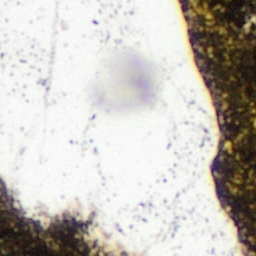cement_matrix: (182, 0, 255, 255), (0, 186, 106, 255)
gravel_crushed_stones: (0, 0, 248, 255)
